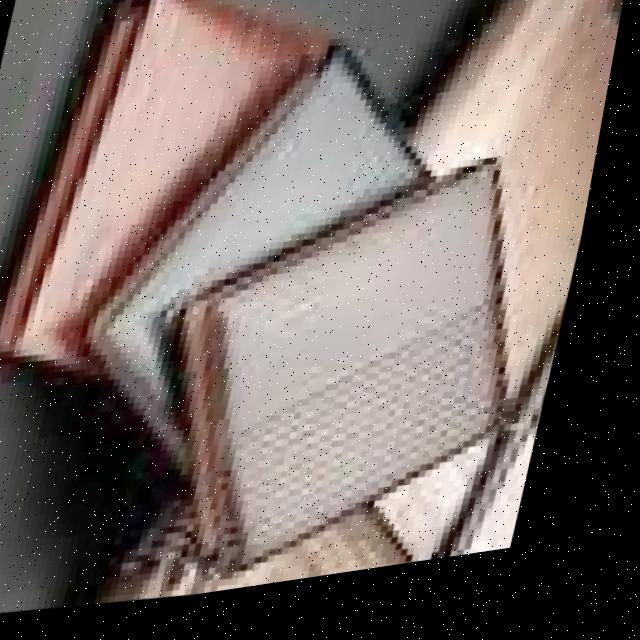cuzdan: (179, 142, 578, 609), (0, 0, 356, 416)
